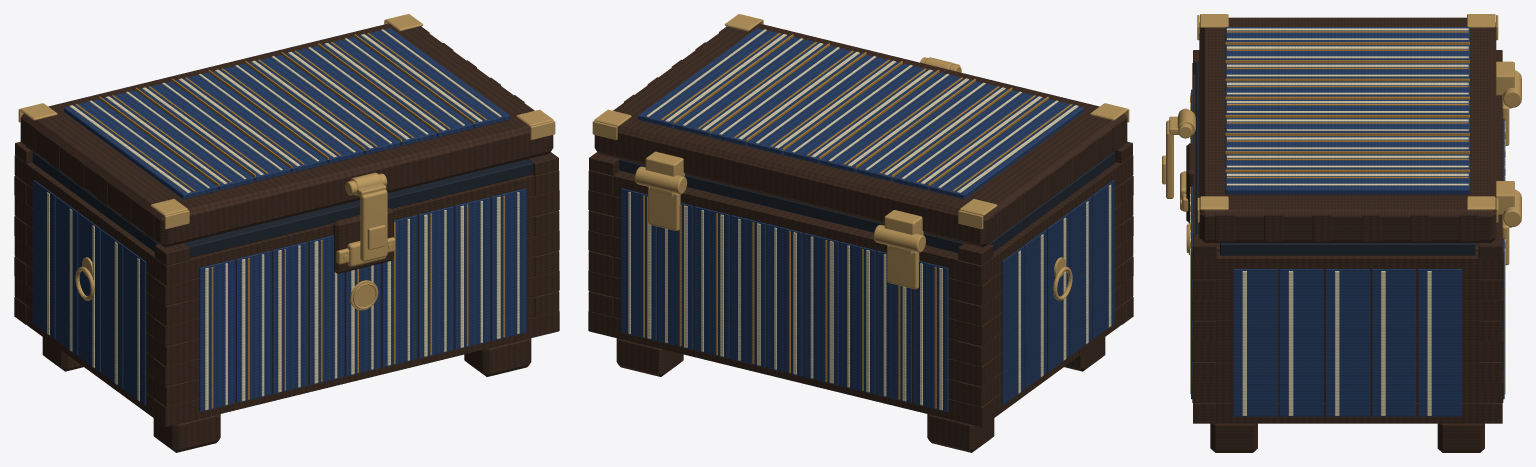
File: cote-d-ivoire.glb
3 renders of one model, left to right at view 1: azimuth 30°, elevation 25°; view 2: azimuth 150°, elevation 25°; view 3: azimuth 270°, elevation 25°, orthographic. The views are drawn at different scales.
Parts seen in each view (by area): view 1: Lid / polished slab, Mineral seam / long, Textile body panel.007, Textile body panel.002, Textile body panel.001, Textile body panel, Textile body panel.006, Textile body panel.008, Textile body panel.005, Textile lid strip 00, Textile body panel.003, Walnut / front course 0 (+53 smaller); view 2: Lid / polished slab, Walnut / rear course 7, Textile body panel.014, Textile body panel.012, Textile body panel.011, Textile body panel.013, Textile body panel.015, Textile body panel.009, Textile body panel.017, Textile lid strip 00, Walnut / rear course 0, Textile body panel.016 (+60 smaller); view 3: Lid / polished slab, Textile side panel.009, Textile side panel.005, Textile side panel.006, Textile side panel.007, Textile side panel.008, Walnut / side course 7.001, Textile lid strip 08, Textile lid strip 00, Textile lid strip 05, Mineral seam / side.001, Textile lid strip 06 (+82 smaller).
Part boxes in pixels (x1,y1,x2,y2): Lid / polished slab: [20, 23, 553, 247]; Mineral seam / long: [184, 159, 533, 257]; Textile body panel.007: [454, 197, 490, 349]; Textile body panel.002: [272, 242, 307, 394]; Textile body panel.001: [236, 250, 271, 402]; Textile body panel: [199, 259, 234, 411]; Textile body panel.006: [418, 206, 453, 358]; Textile body panel.008: [491, 188, 526, 340]; Textile body panel.005: [381, 215, 417, 367]; Textile lid strip 00: [64, 99, 218, 199]; Textile body panel.003: [309, 235, 344, 385]; Walnut / front course 0: [155, 311, 558, 427]; Lid / polished slab: [594, 23, 1127, 247]; Walnut / rear course 7: [613, 171, 957, 279]; Textile body panel.014: [730, 215, 766, 367]; Textile body panel.012: [803, 233, 838, 385]; Textile body panel.011: [840, 242, 875, 394]; Textile body panel.013: [767, 224, 802, 376]; Textile body panel.015: [694, 206, 729, 358]; Textile body panel.009: [913, 261, 948, 411]; Textile body panel.017: [621, 188, 656, 340]; Textile lid strip 00: [929, 99, 1083, 199]; Walnut / rear course 0: [589, 311, 992, 427]; Textile body panel.016: [657, 203, 693, 349]; Lid / polished slab: [1199, 17, 1496, 242]; Textile side panel.009: [1418, 269, 1462, 416]; Textile side panel.005: [1233, 269, 1277, 416]; Textile side panel.006: [1279, 269, 1323, 416]; Textile side panel.007: [1325, 269, 1369, 416]; Textile side panel.008: [1371, 269, 1415, 416]; Walnut / side course 7.001: [1193, 251, 1502, 279]; Textile lid strip 08: [1225, 172, 1469, 194]; Textile lid strip 00: [1225, 27, 1469, 45]; Textile lid strip 05: [1225, 118, 1469, 136]; Mineral seam / side.001: [1220, 243, 1475, 255]; Textile lid strip 06: [1225, 136, 1469, 154].
Bounding box in the file's own units: 3.81 × 2.29 × 2.88.
6 materials, 4 textured.
